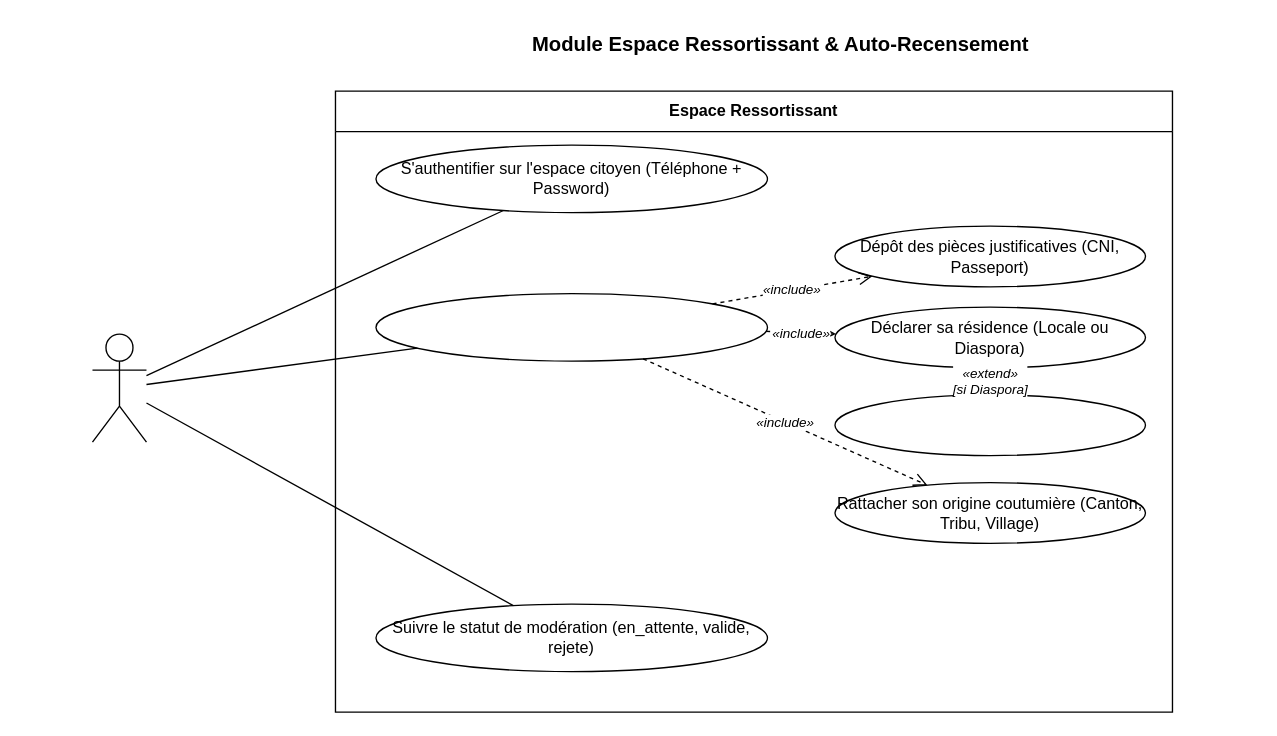
This 1277x736 diagram has some shape labels left out. The centre of each missing label's shape, as x and y in pixels:
"Remplir & mettre à jour sa fiche individuelle" goes at point (571, 326).
"Renseigner Consulat & Contact Référent" goes at point (989, 425).
"Ressortissant / Citoyen (Authentifié via Téléphone)" goes at point (118, 387).
